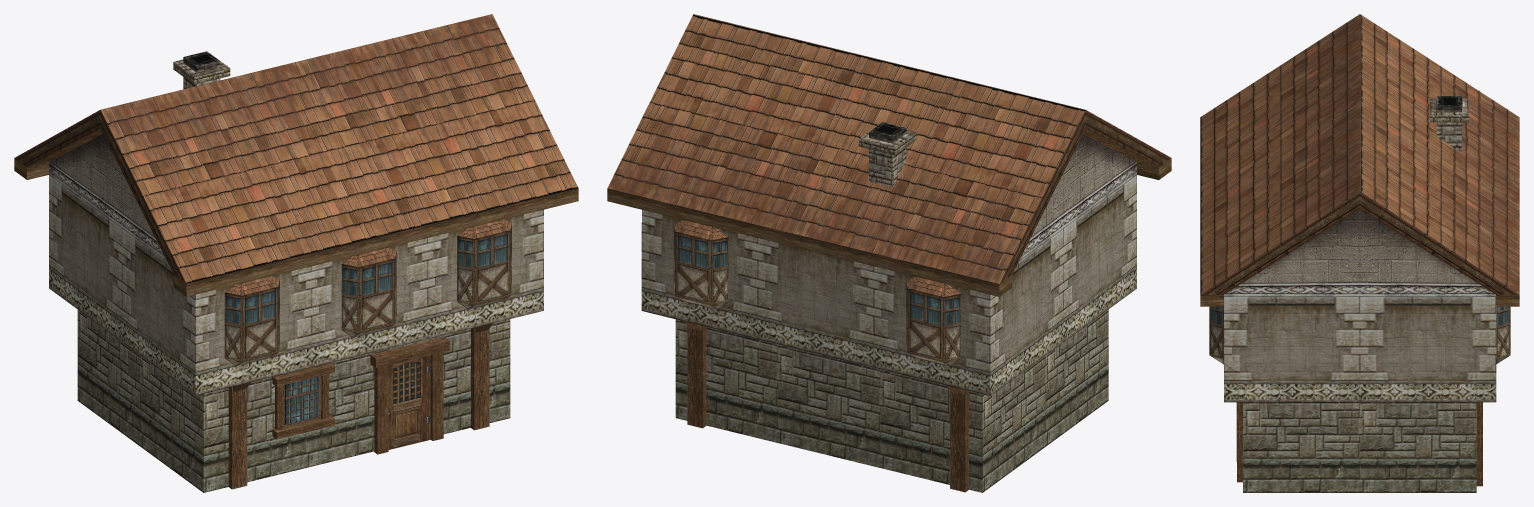
The model's file is rd_house6.glb.
The picture shows the model from 3 angles, left to right: view 1: azimuth 30°, elevation 25°; view 2: azimuth 150°, elevation 25°; view 3: azimuth 270°, elevation 25°; orthographic projection. The views are drawn at different scales.
Parts seen in each view (by area): view 1: rd_house6; view 2: rd_house6; view 3: rd_house6.
Part boxes in pixels (x1,y1,x2,y2): rd_house6: (14, 14, 578, 492); rd_house6: (607, 14, 1171, 492); rd_house6: (1200, 14, 1519, 492).
Size of the model in its own units: 9.64 by 8.17 by 7.33.
10 materials, 10 textured.
